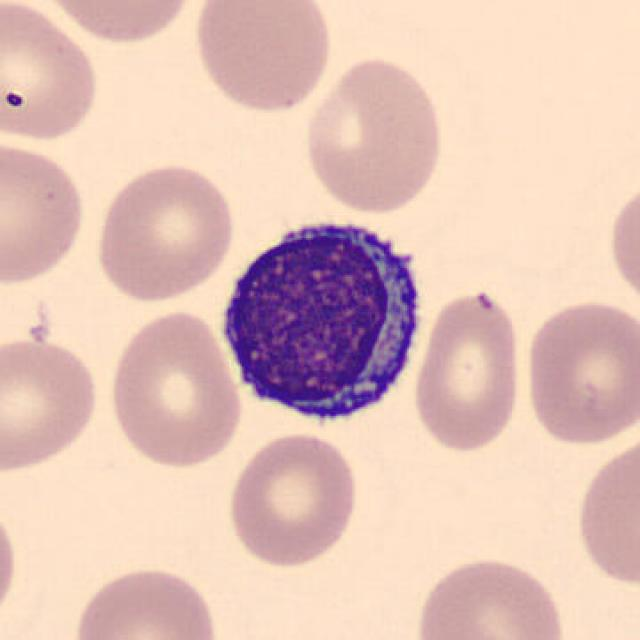Lymphocyte: (210, 204, 432, 436)
RBC: (299, 53, 448, 217), (105, 305, 245, 471), (91, 157, 240, 305), (222, 428, 363, 570), (411, 287, 526, 455), (521, 294, 638, 450), (188, 0, 335, 116), (0, 0, 103, 146), (0, 333, 103, 476), (410, 552, 570, 640), (0, 136, 89, 287), (68, 562, 224, 640), (572, 427, 638, 592), (34, 0, 201, 48), (604, 176, 640, 312), (0, 494, 23, 633)
